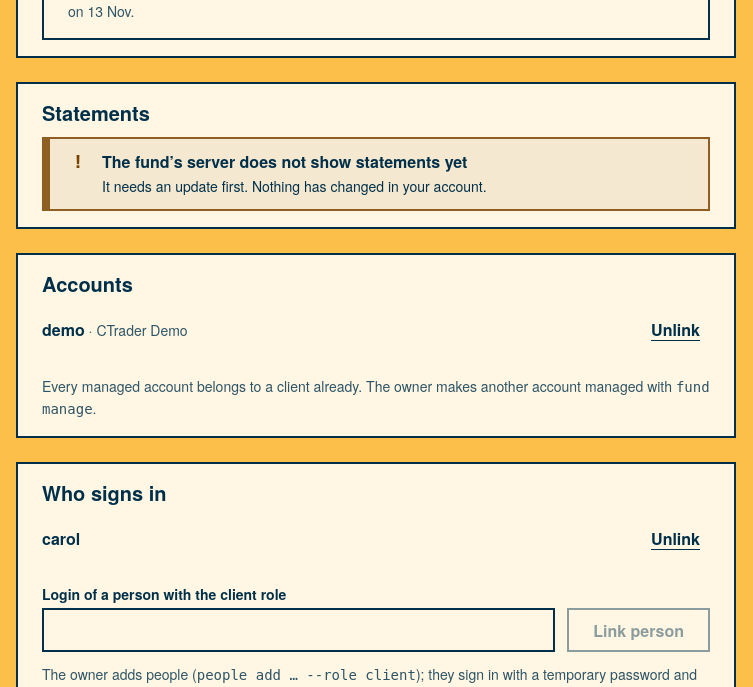
Test: A client’s page › unlinks an account and links it again, without asking (a link is undone by linking)
The width and height of the screenshot is (753, 687).
(page scrolled)
Click the button with aria-label "Unlink demo".
click(676, 330)  # box [641,308,710,352]
(page scrolled)
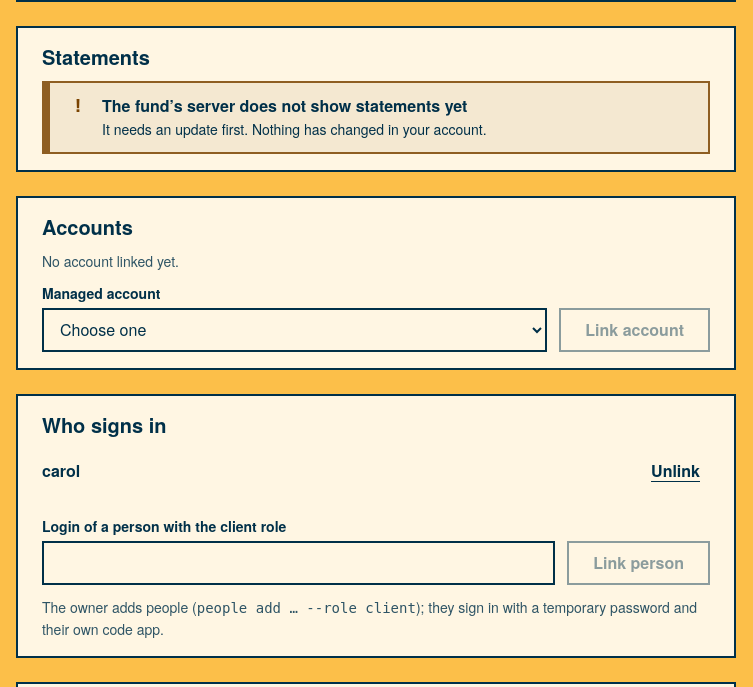
Now the text "No account linked yet." is shown, box [42,251,179,271]
Select "demo (CTrader Demo)" in the dropdown labelled "Managed account" at {"x": 295, "y": 330}, box [42,308,547,352]
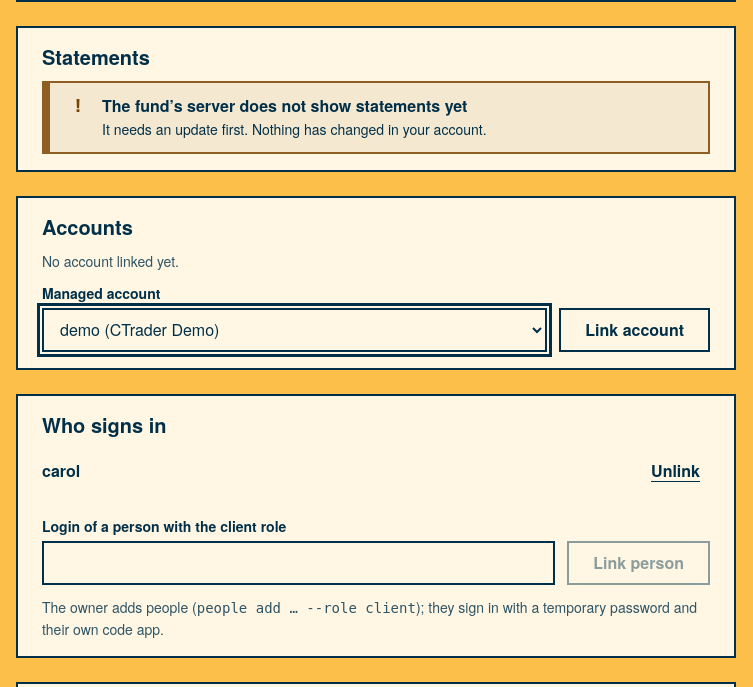
Click the button "Link account".
click(635, 330)  # box [559,308,710,352]
(page scrolled)
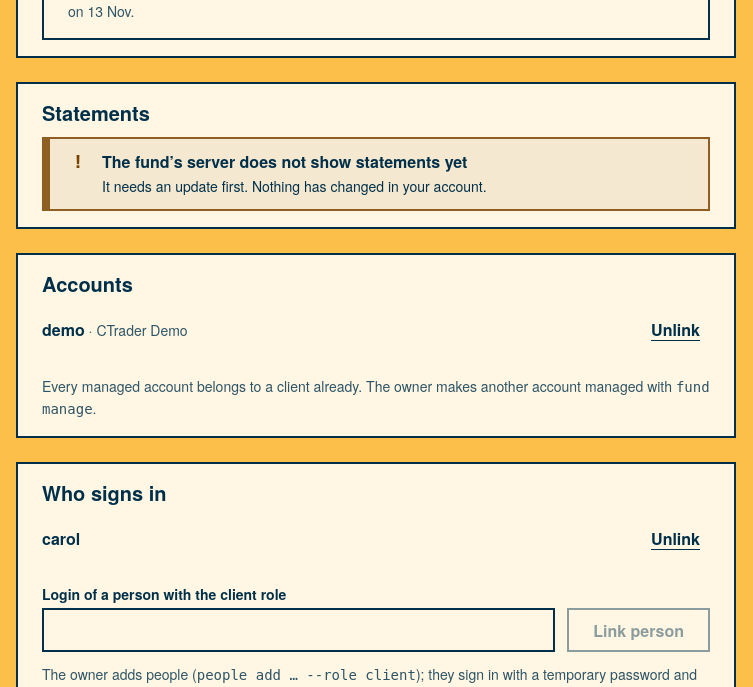
Now the button with aria-label "Unlink demo" is shown, box [641,308,710,352]
